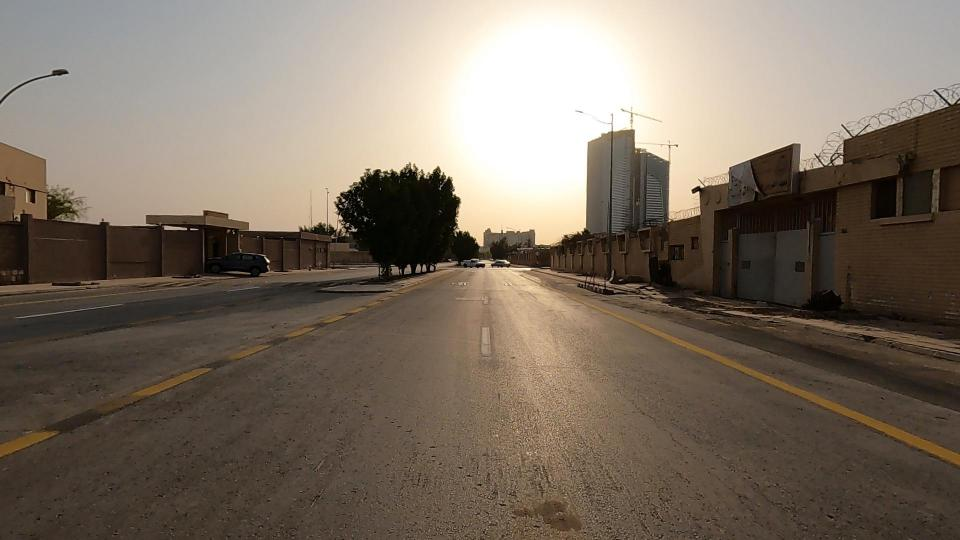GARBAGE: (762, 261, 883, 336)
